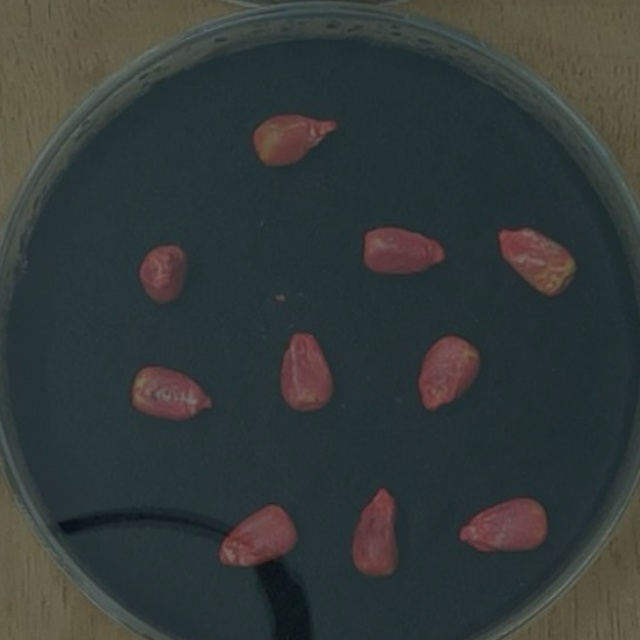Zea mays: (489, 220, 585, 307), (209, 498, 304, 577), (452, 489, 555, 561), (245, 105, 345, 177), (411, 328, 489, 419), (125, 357, 222, 428), (343, 477, 406, 584), (273, 325, 342, 420), (355, 219, 454, 284), (133, 237, 193, 314)
